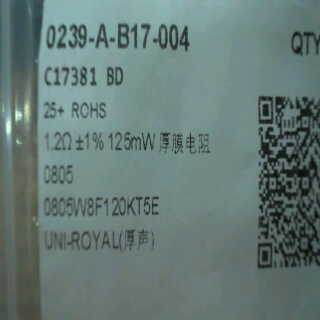1.2R: (42, 130, 75, 186)
